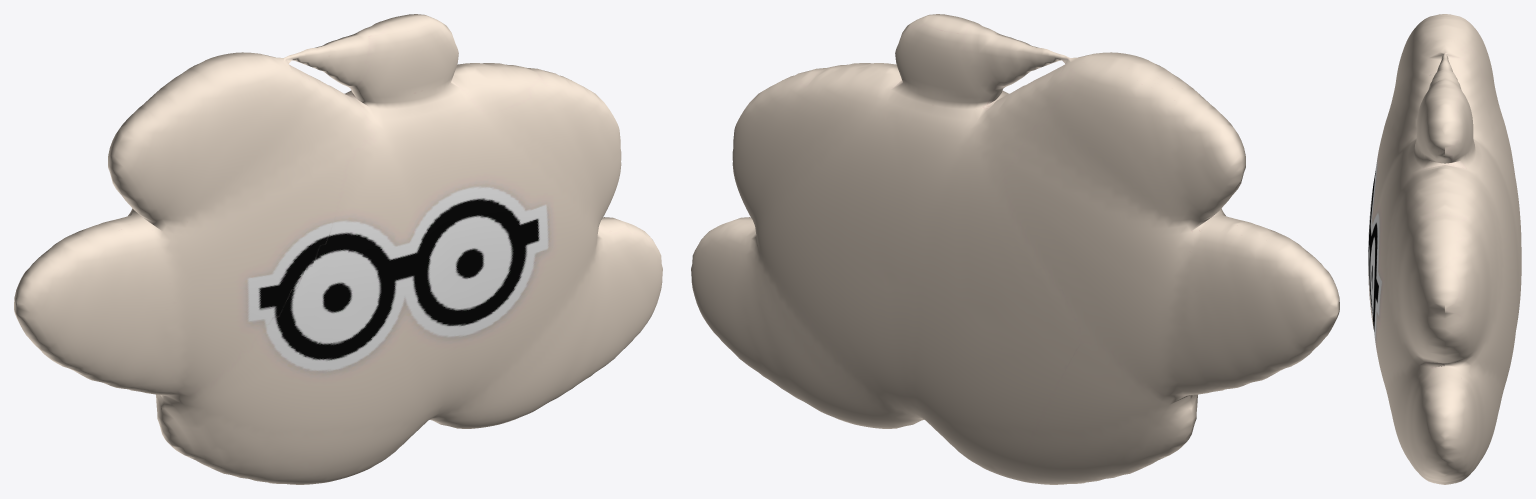
Rendered from Nuage.fbx.
3 views of the same model, side by side, from view 1: azimuth 30°, elevation 25°; view 2: azimuth 150°, elevation 25°; view 3: azimuth 270°, elevation 25° (orthographic). The views are drawn at different scales.
Visible parts, largest first — view 1: root; view 2: root; view 3: root.
Part boxes in pixels (box(x1,y1,x2,y2)): root: box(14, 14, 662, 484); root: box(691, 14, 1339, 484); root: box(1368, 14, 1521, 484).
Bounding box in the file's own units: 0.355 × 0.2315 × 0.0905.
Materials: 1 (1 with a texture image).
